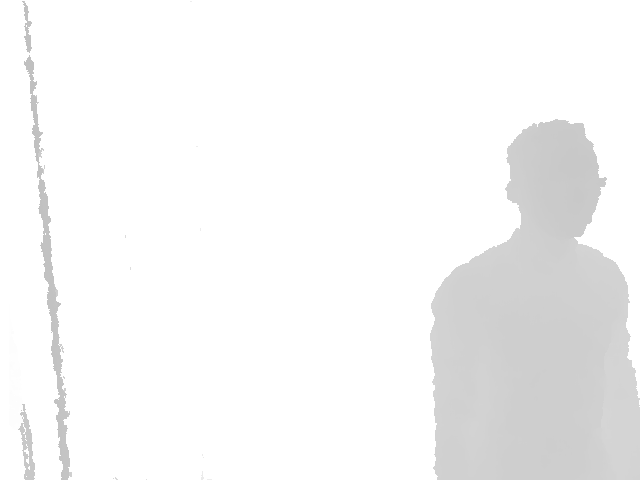head: (506, 119, 607, 239)
person: (428, 120, 640, 480)
